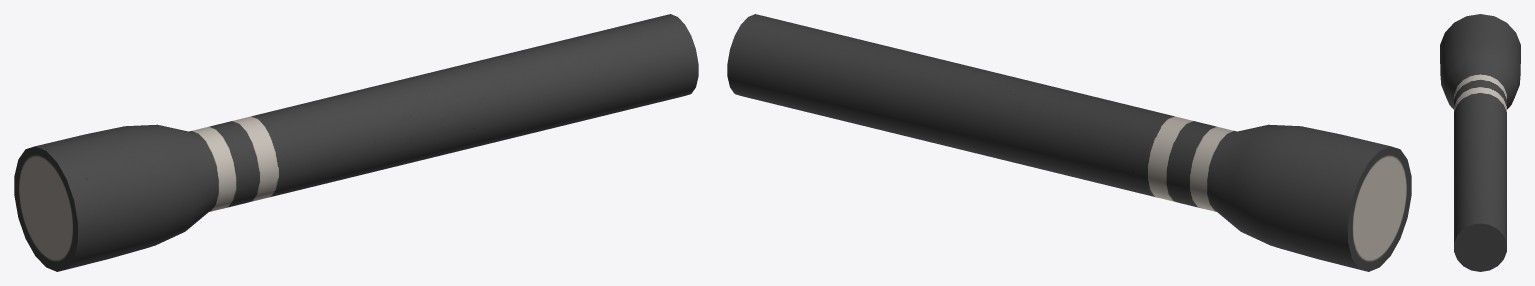
Rendered from flashlight.FBX.
The picture shows the model from 3 angles, left to right: view 1: azimuth 30°, elevation 25°; view 2: azimuth 150°, elevation 25°; view 3: azimuth 270°, elevation 25°; orthographic projection. The views are drawn at different scales.
Parts seen in each view (by area): view 1: Flashlight; view 2: Flashlight; view 3: Flashlight.
Part boxes in pixels (x1,y1,x2,y2): Flashlight: (14, 14, 698, 271); Flashlight: (727, 14, 1411, 271); Flashlight: (1440, 14, 1520, 271).
Size of the model in its own units: 34.74 by 6.13 by 6.04.
